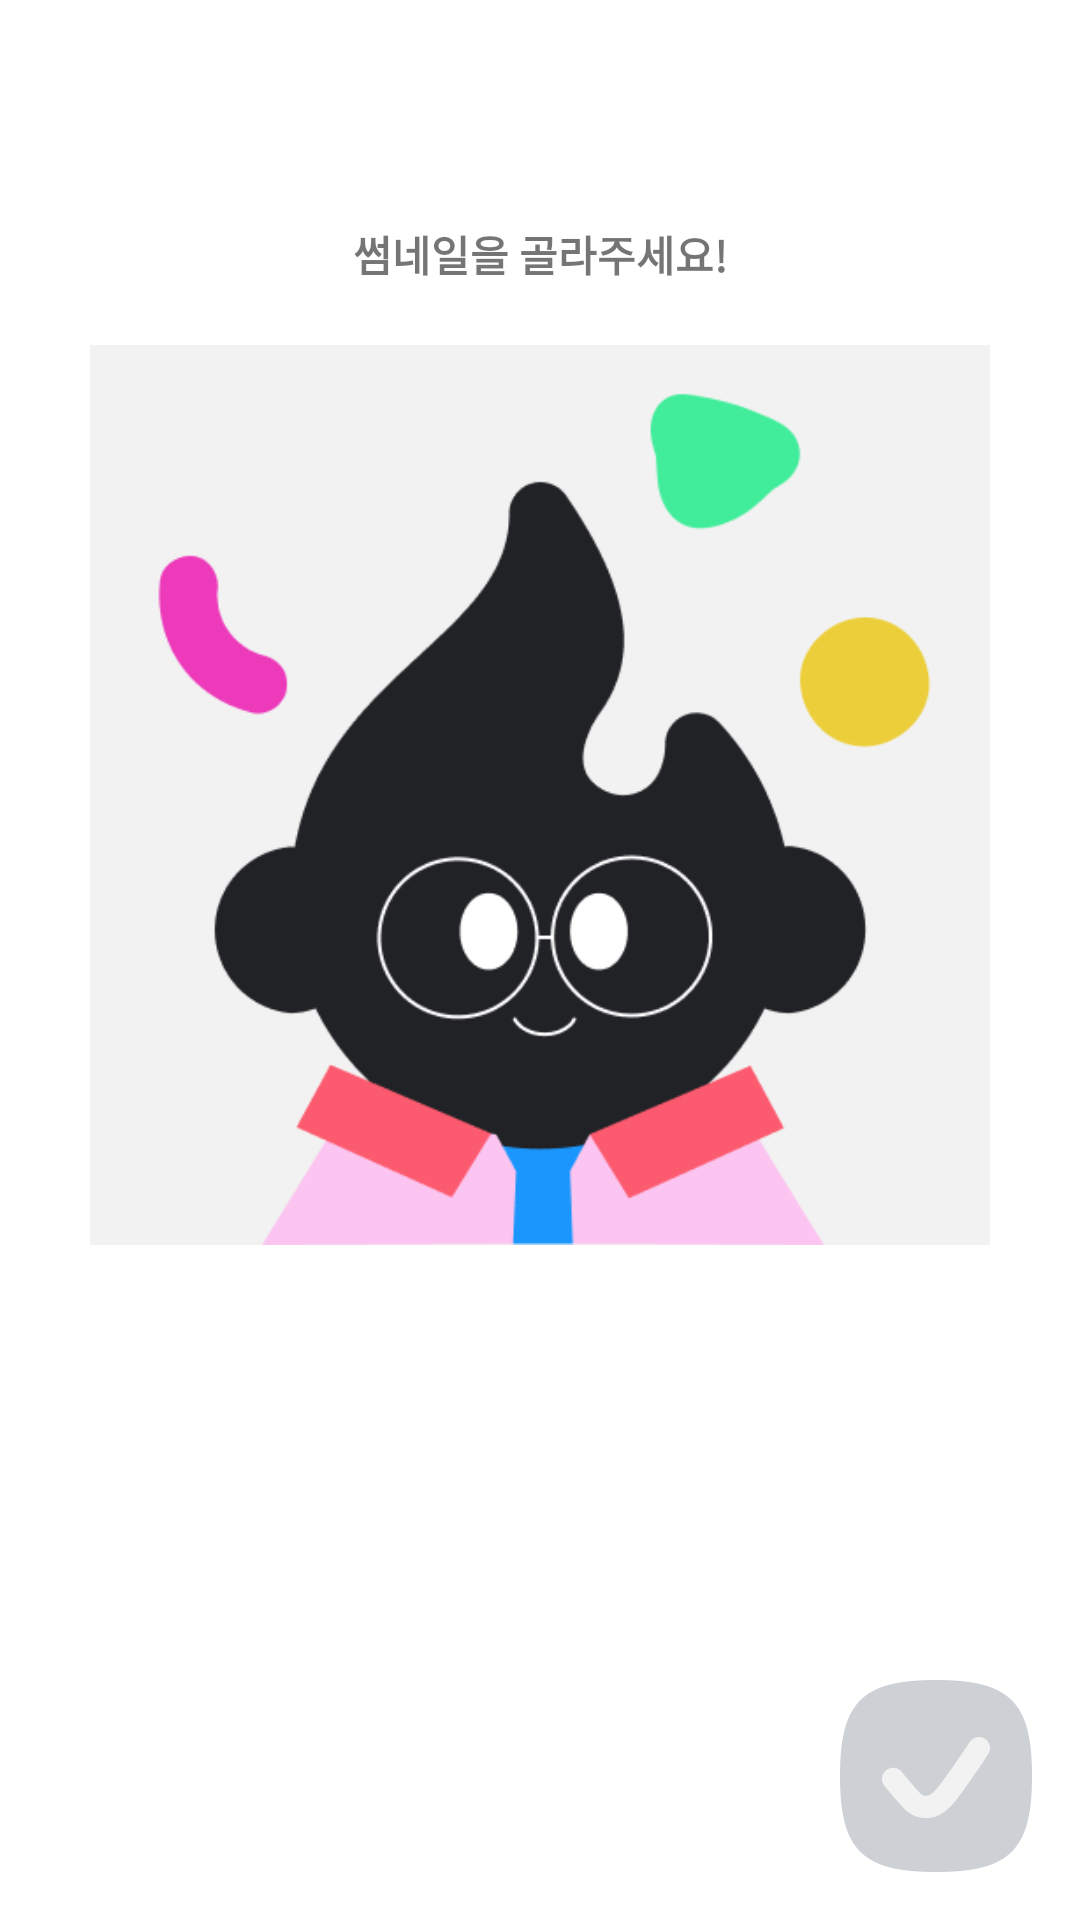

Screen size 1080x1920. Icon name, then its center in pixels as (x,y):
nickname ok: (936,1776)
